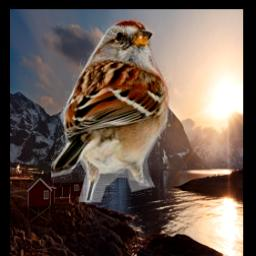Sparrow: (50, 19, 169, 203)
